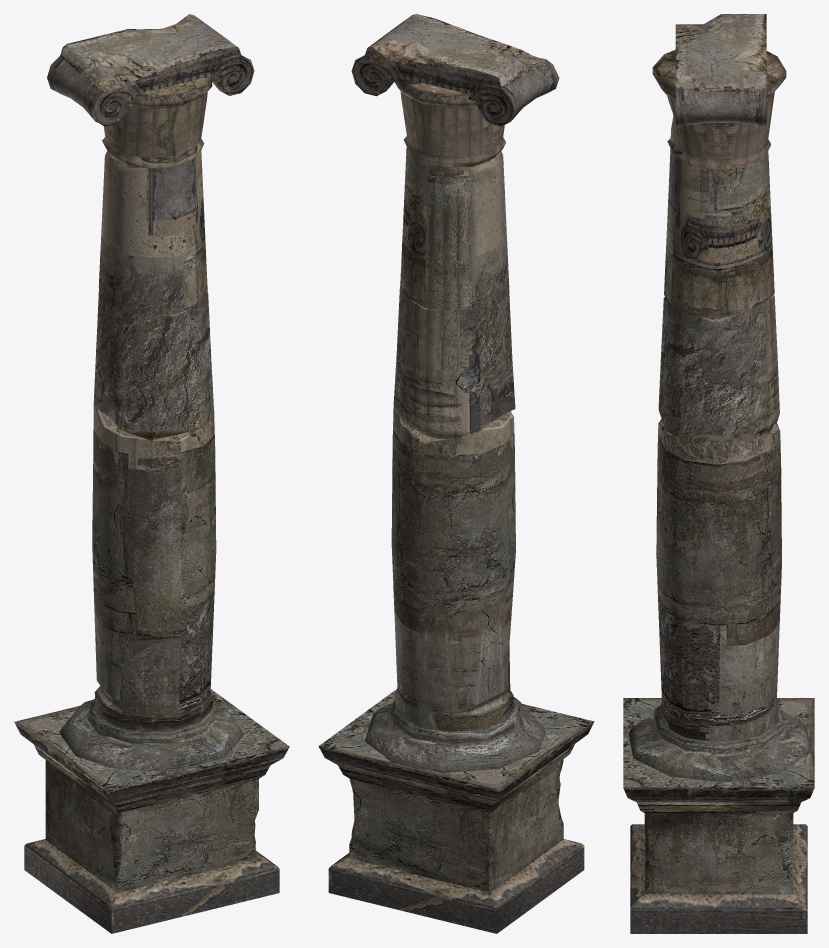
The model's file is gidung.fbx.
3 renders of one model, left to right at view 1: azimuth 30°, elevation 25°; view 2: azimuth 150°, elevation 25°; view 3: azimuth 270°, elevation 25°, orthographic.
Visible parts, largest first — view 1: LV_Campagna_Stadium_Wall_Pillar02B_SM_JJH; view 2: LV_Campagna_Stadium_Wall_Pillar02B_SM_JJH; view 3: LV_Campagna_Stadium_Wall_Pillar02B_SM_JJH.
Boxes of the visible parts, x1,y1,x2,y2 form: LV_Campagna_Stadium_Wall_Pillar02B_SM_JJH: (14, 14, 289, 933); LV_Campagna_Stadium_Wall_Pillar02B_SM_JJH: (318, 14, 594, 933); LV_Campagna_Stadium_Wall_Pillar02B_SM_JJH: (623, 14, 814, 933).
Size of the model in its own units: 0.7028 by 3.09 by 0.6334.
2 materials, 2 textured.
